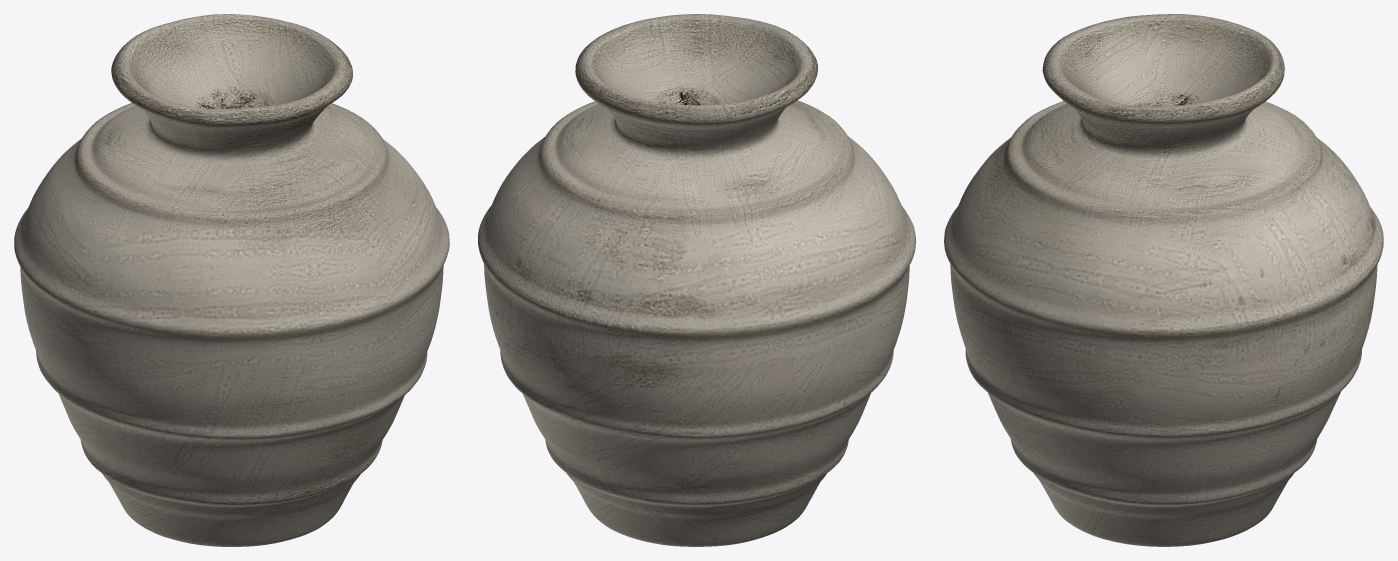
Rendered from clay-vase.glb.
3 renders of one model, left to right at view 1: azimuth 30°, elevation 25°; view 2: azimuth 150°, elevation 25°; view 3: azimuth 270°, elevation 25°, orthographic.
Parts seen in each view (by area): view 1: tripo_node_82a9cff4-524a-489b-9137-df30fb93ca62; view 2: tripo_node_82a9cff4-524a-489b-9137-df30fb93ca62; view 3: tripo_node_82a9cff4-524a-489b-9137-df30fb93ca62.
Boxes of the visible parts, x1,y1,x2,y2 form: tripo_node_82a9cff4-524a-489b-9137-df30fb93ca62: (14, 14, 449, 546); tripo_node_82a9cff4-524a-489b-9137-df30fb93ca62: (478, 14, 915, 546); tripo_node_82a9cff4-524a-489b-9137-df30fb93ca62: (944, 14, 1383, 546).
Size of the model in its own units: 0.3584 by 0.4 by 0.3584.
1 material, 1 textured.
